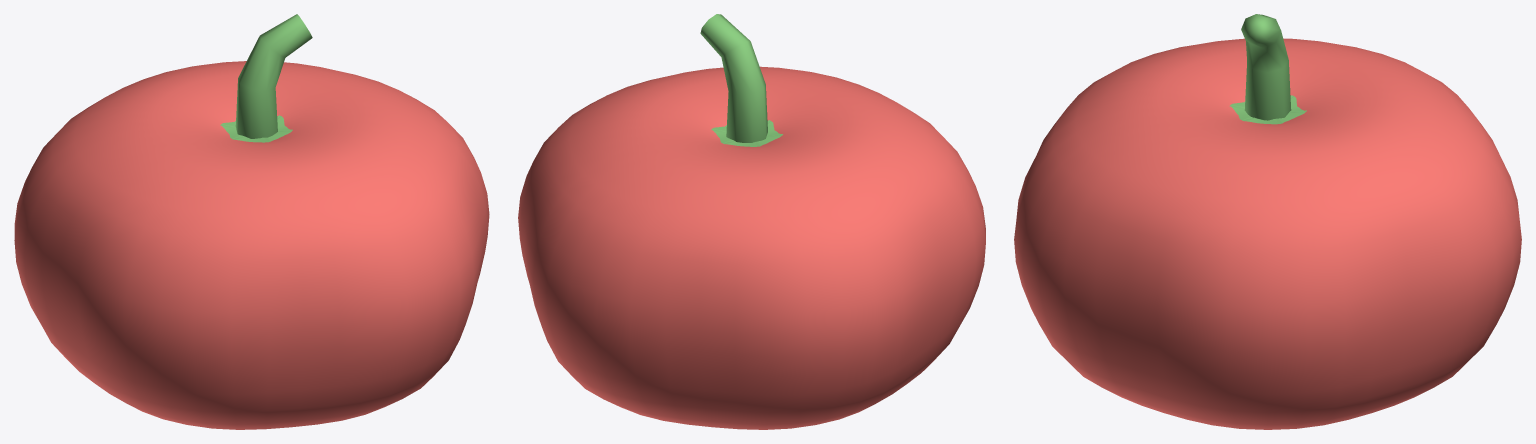
Rendered from VeggieTomato.glb.
3 renders of one model, left to right at view 1: azimuth 30°, elevation 25°; view 2: azimuth 150°, elevation 25°; view 3: azimuth 270°, elevation 25°, orthographic. The views are drawn at different scales.
Visible parts, largest first — view 1: TomatoBody, TomatoLeaves; view 2: TomatoBody, TomatoLeaves; view 3: TomatoBody, TomatoLeaves.
Boxes of the visible parts, x1,y1,x2,y2 form: TomatoBody: (14, 61, 489, 429); TomatoLeaves: (220, 14, 312, 142); TomatoBody: (518, 66, 985, 429); TomatoLeaves: (700, 14, 782, 146); TomatoBody: (1014, 38, 1521, 429); TomatoLeaves: (1229, 14, 1306, 124).
Bounding box in the file's own units: 2.11 × 1.76 × 2.15.
